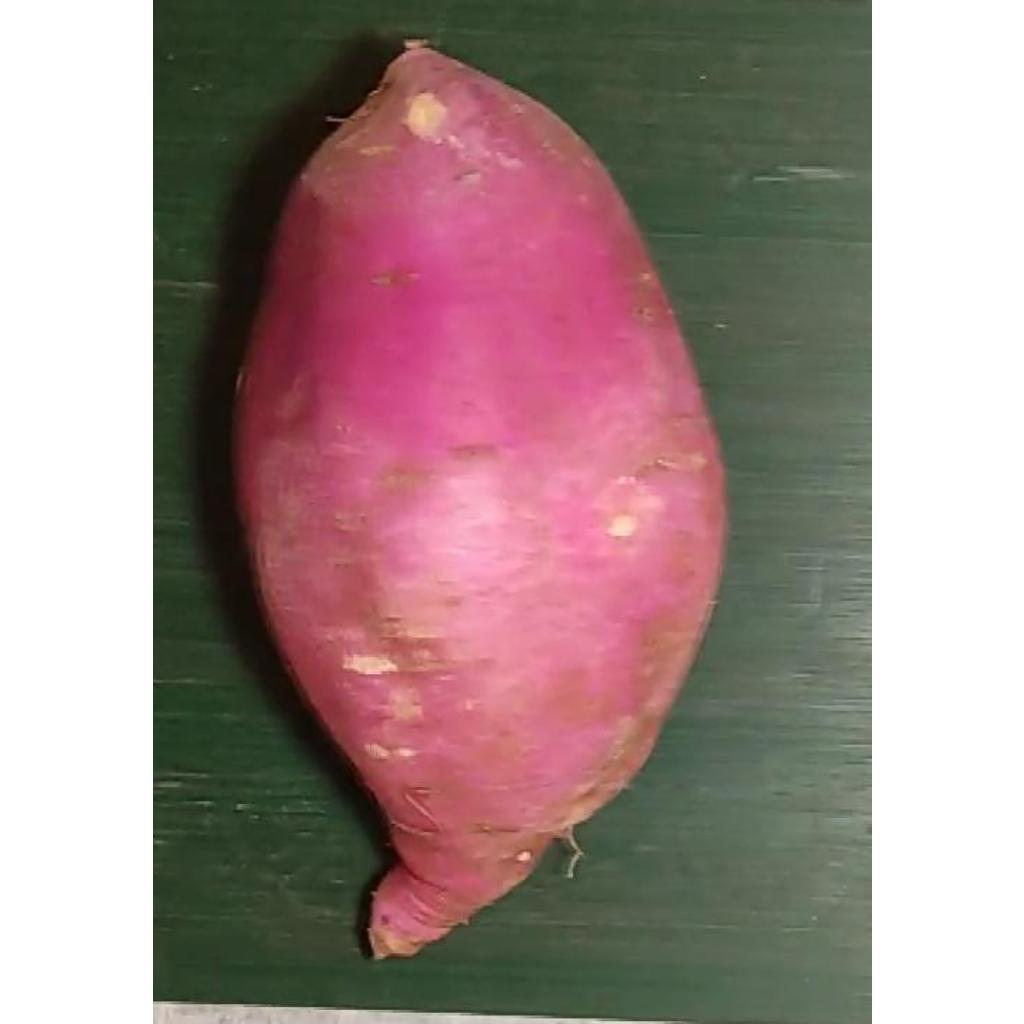Sweet Potato: (235, 44, 729, 963)
